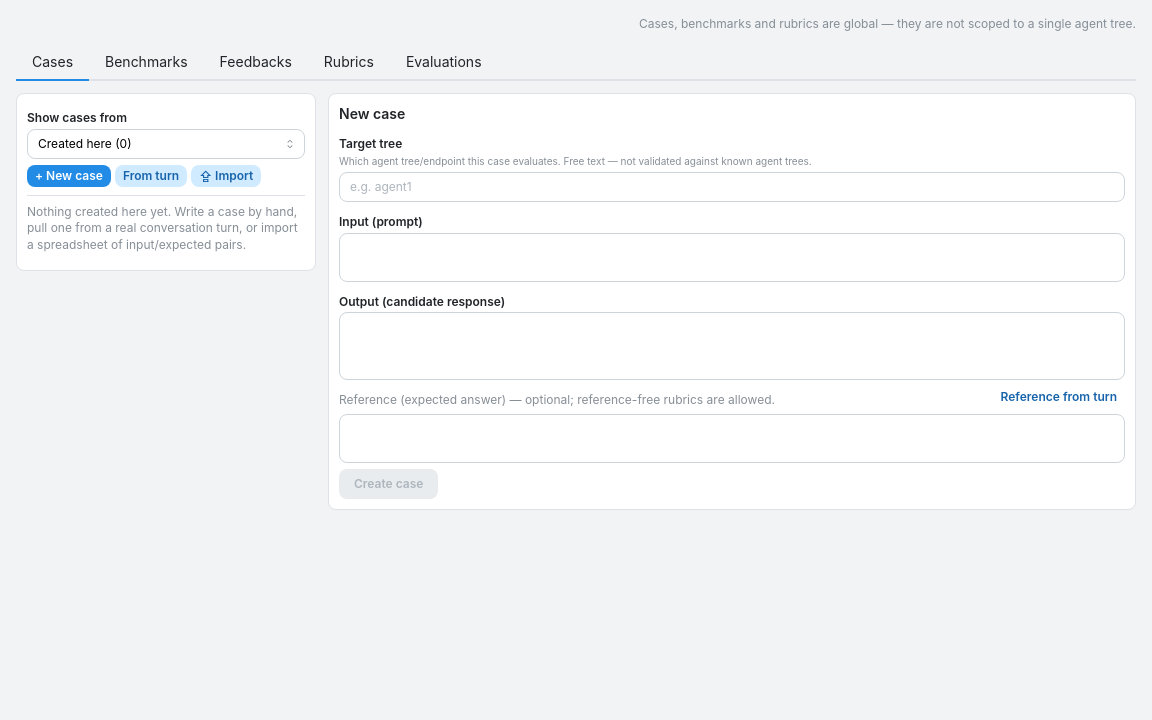
Test: cases tab › pastes a turn's response into the reference field without creating a case
Expected: the text with test id "cases-empty" is shown, 27,204 -> 305,254
Click the button "Reference from turn": point(1059, 398) 993,386 -> 1125,408
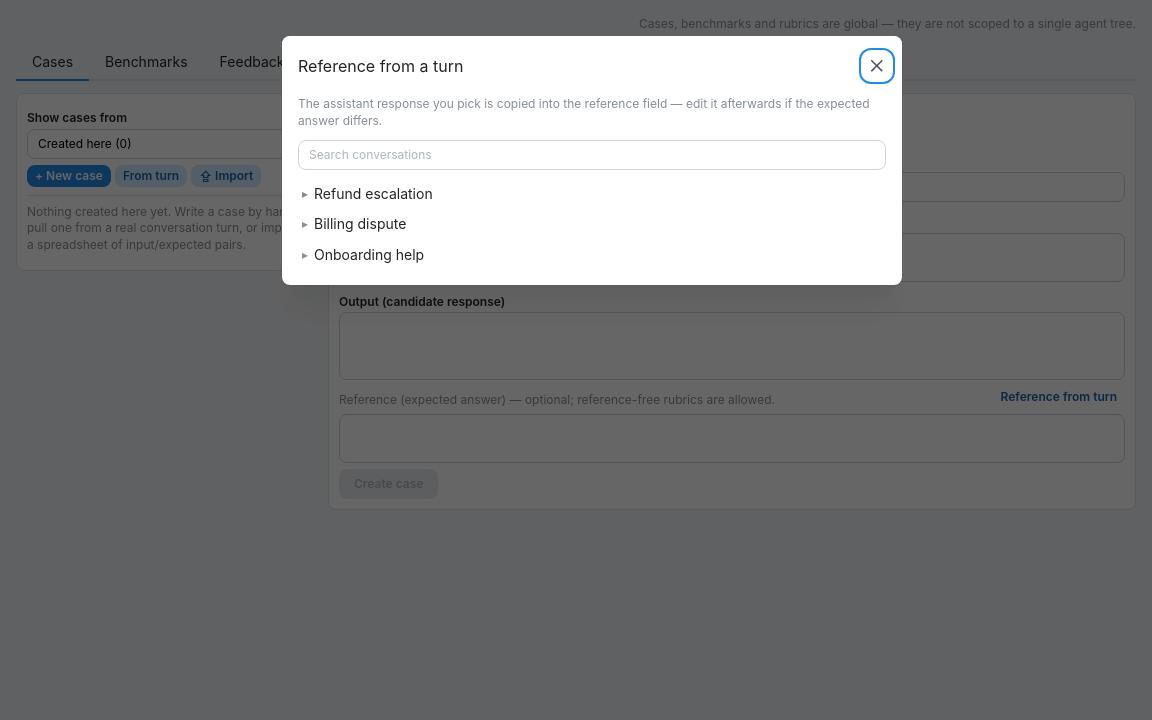
Click the text "Refund escalation": point(373, 194) 314,184 -> 433,204
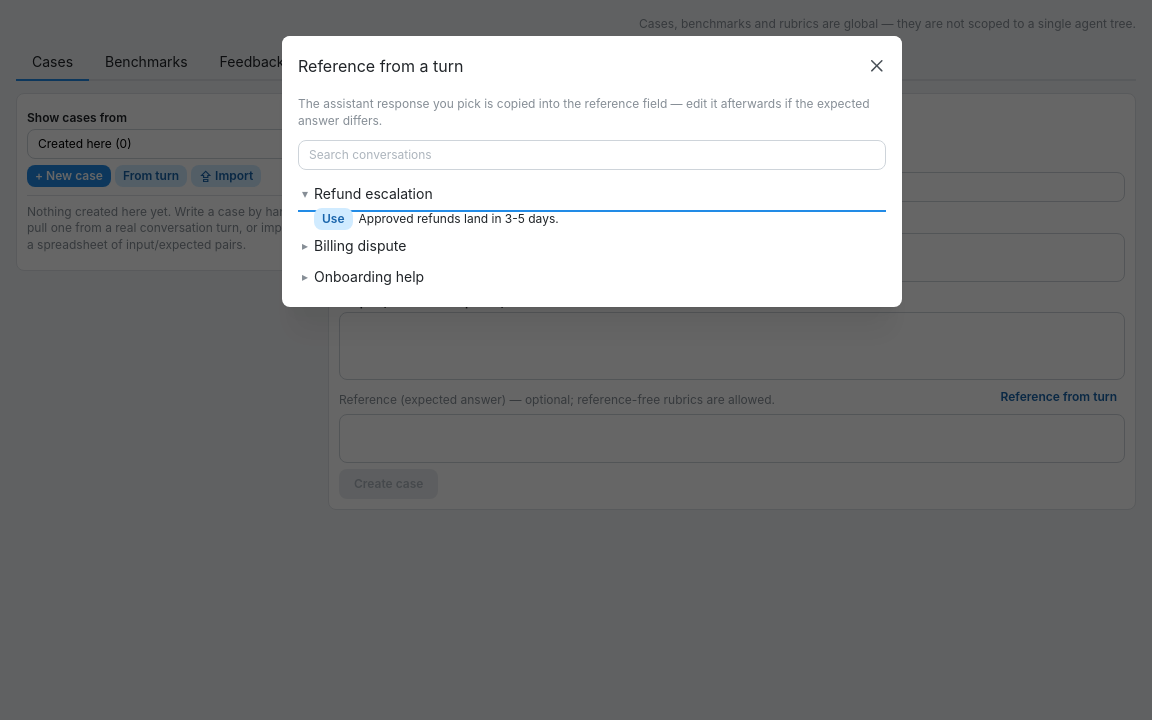
Click the button "Use": point(333, 219) 314,208 -> 352,230
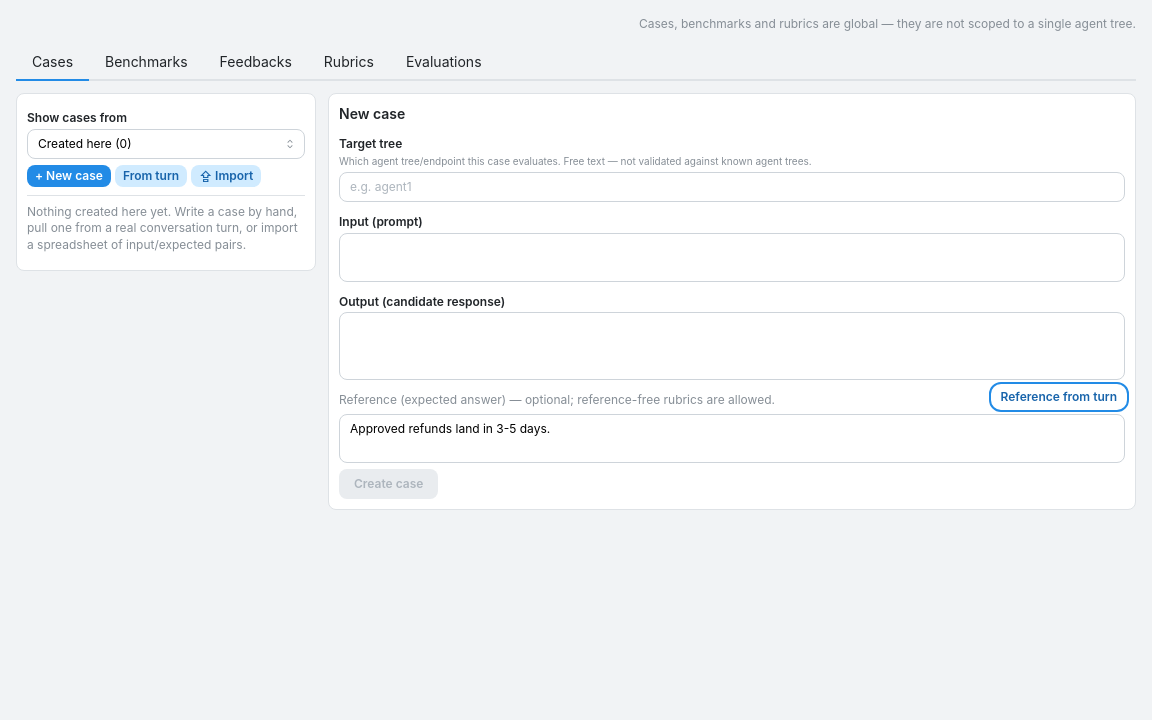
Result: the text box named "Reference (expected answer)" holds "Approved refunds land in 3-5 days." at 339,414 -> 1125,464
